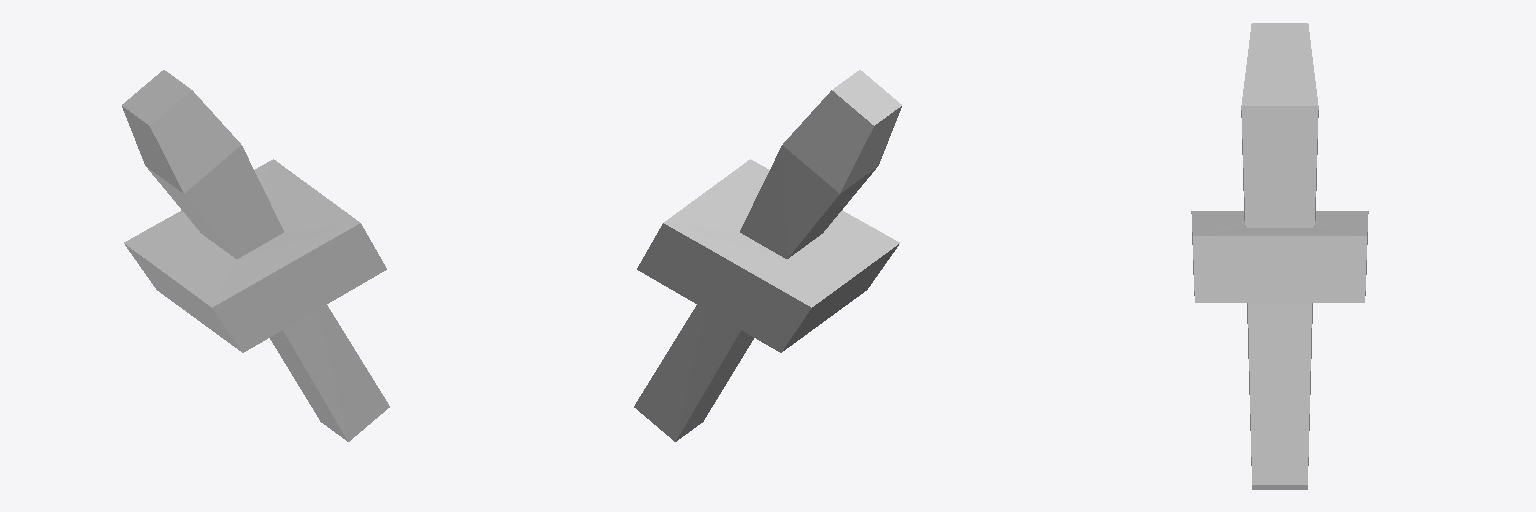
Rendered from Torch.obj.
3 renders of one model, left to right at view 1: azimuth 30°, elevation 25°; view 2: azimuth 150°, elevation 25°; view 3: azimuth 270°, elevation 25°, orthographic.
Size of the model in its own units: 4.99 by 7.74 by 3.18.